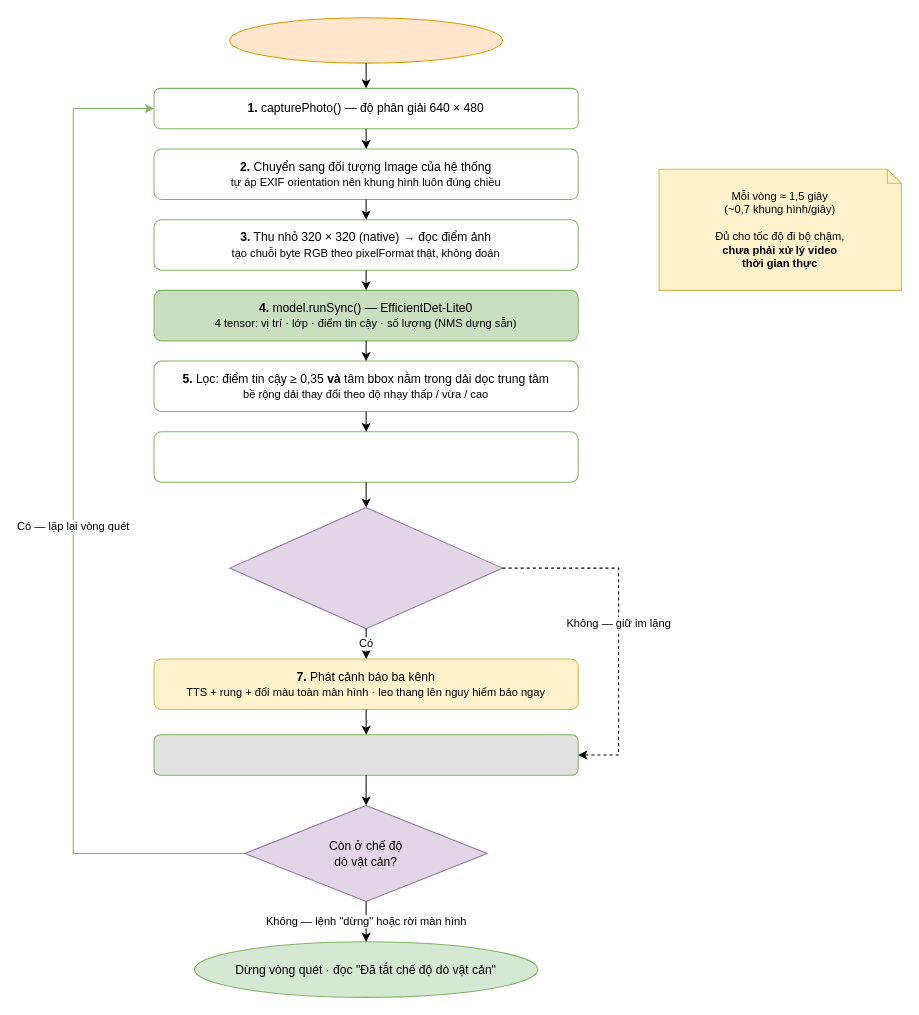
This 919x1015 diagram has some shape labels left out. Each missing label, with the box of its shape:
6. areaRatio → mức độ ≥ 0,35 nguy hiểm · 0,18–0,35 cảnh báo · < 0,18 an toàn: (153, 431, 578, 482)
8. Giải phóng ảnh tạm + chờ 900 ms: (153, 734, 578, 775)
Vào chế độ dò vật cản: (229, 17, 502, 63)
Đủ điều kiện phát? đổi mức, hoặc hết cooldown 2 s nguy hiểm · 3 s cảnh báo: (229, 507, 502, 629)
